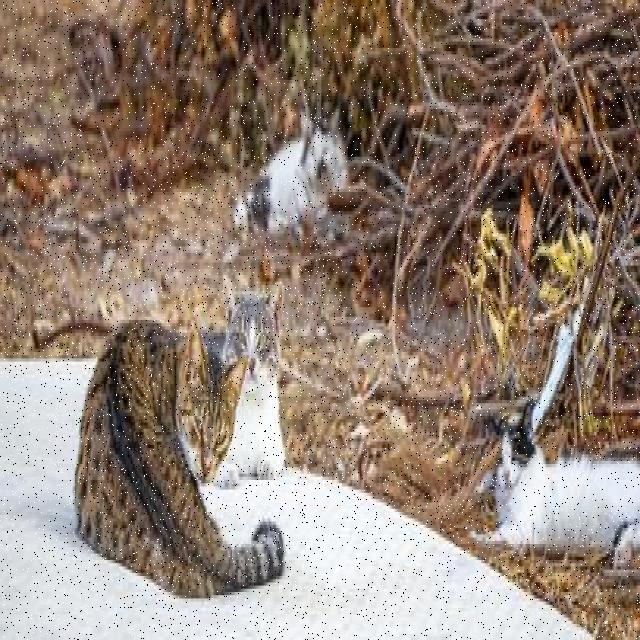cat: (75, 322, 284, 595), (472, 403, 640, 567), (204, 275, 285, 486), (234, 109, 348, 232)
